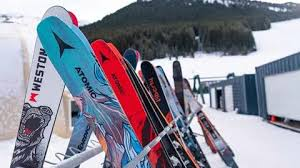skis: (37, 15, 149, 168), (11, 4, 80, 168), (93, 39, 170, 168), (107, 43, 185, 168), (183, 81, 239, 167), (63, 110, 94, 166), (170, 61, 185, 101), (124, 47, 140, 67)
